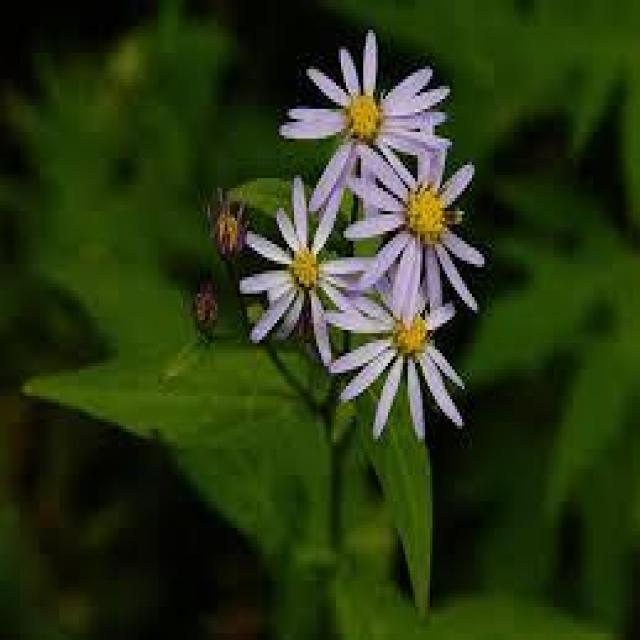organic waste: (289, 41, 445, 233), (320, 272, 478, 444), (344, 152, 489, 323), (235, 170, 361, 351)
